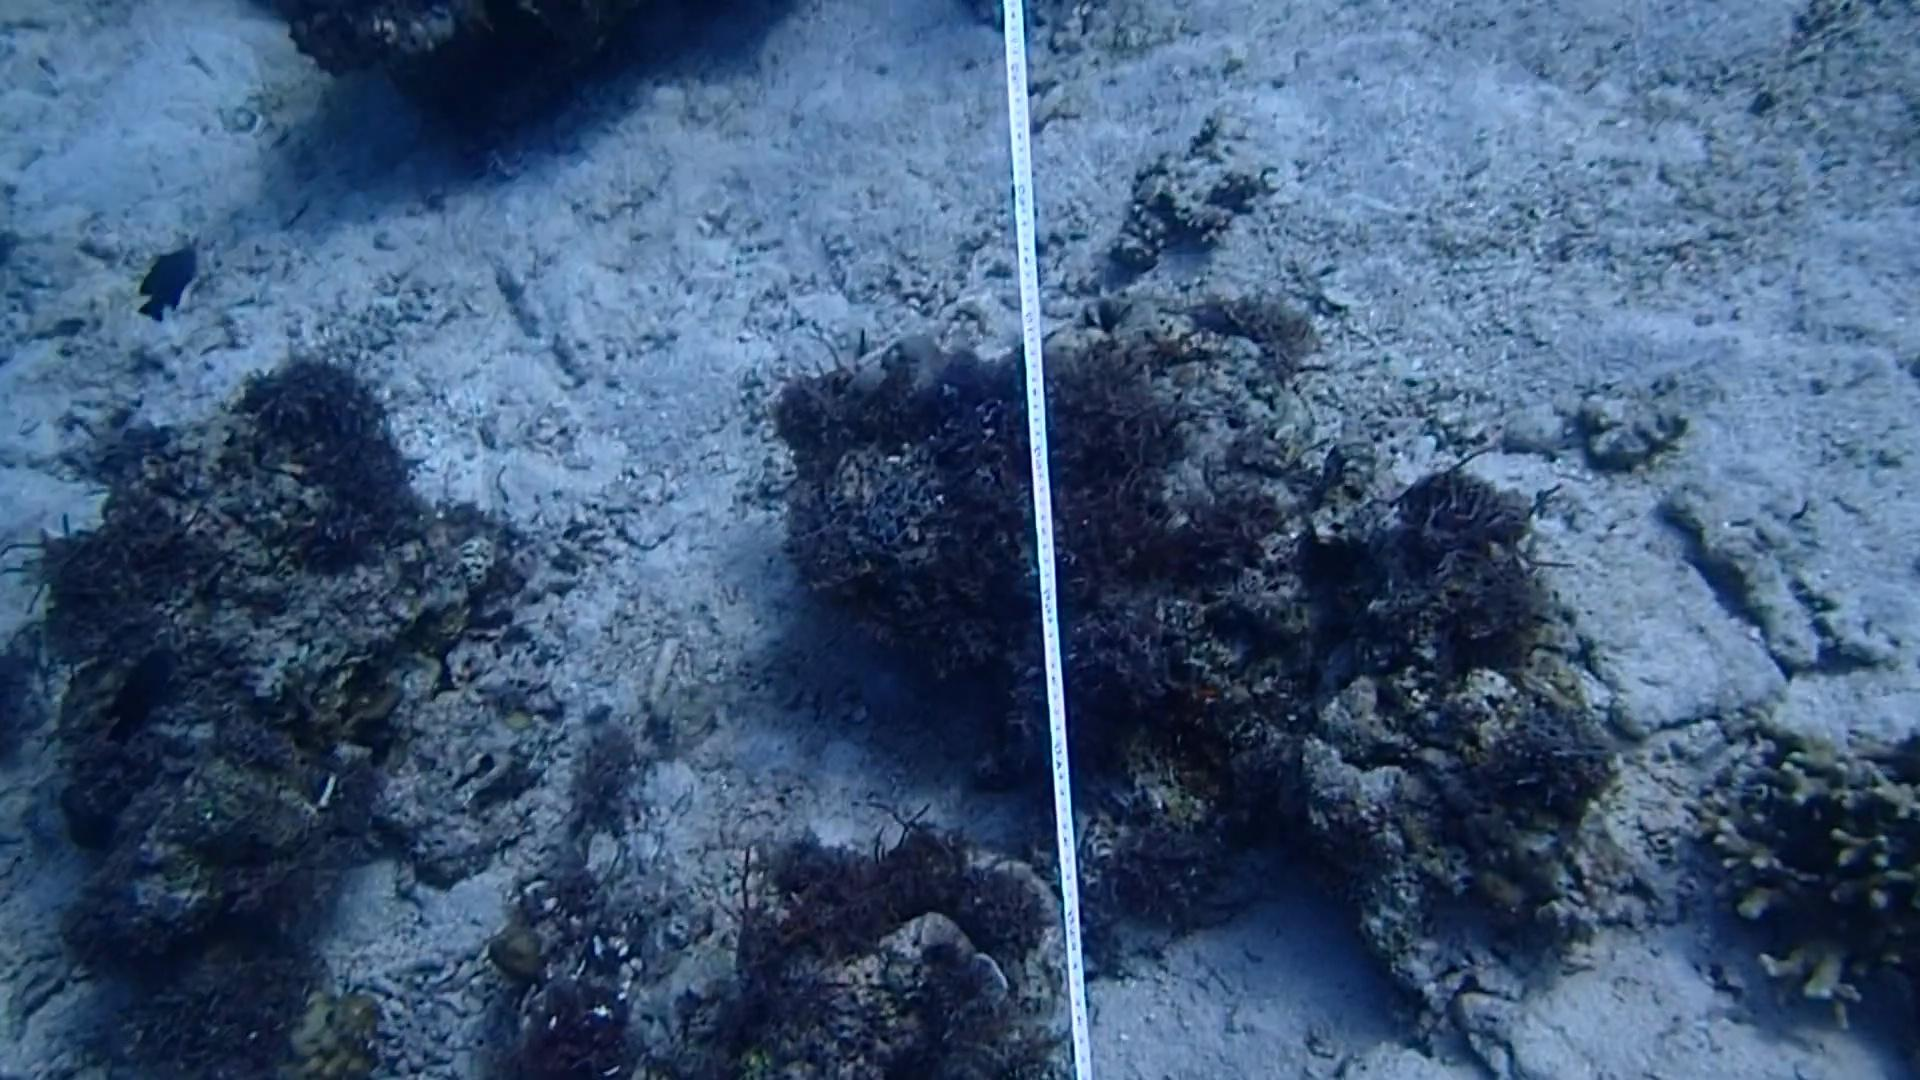Dark Fish: (102, 629, 194, 756), (129, 235, 215, 331)
